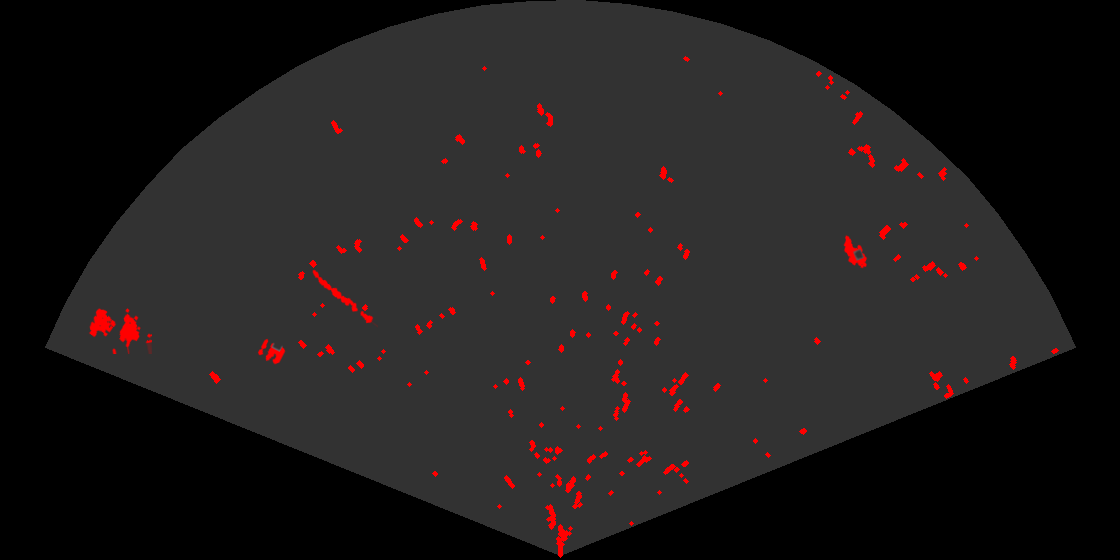AUV: (842, 233, 869, 270)
ball: (256, 337, 287, 366)
cage: (87, 307, 152, 354)
chain: (311, 268, 378, 329)
